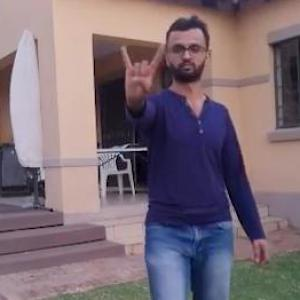takeoff-hand: (115, 31, 167, 106)
